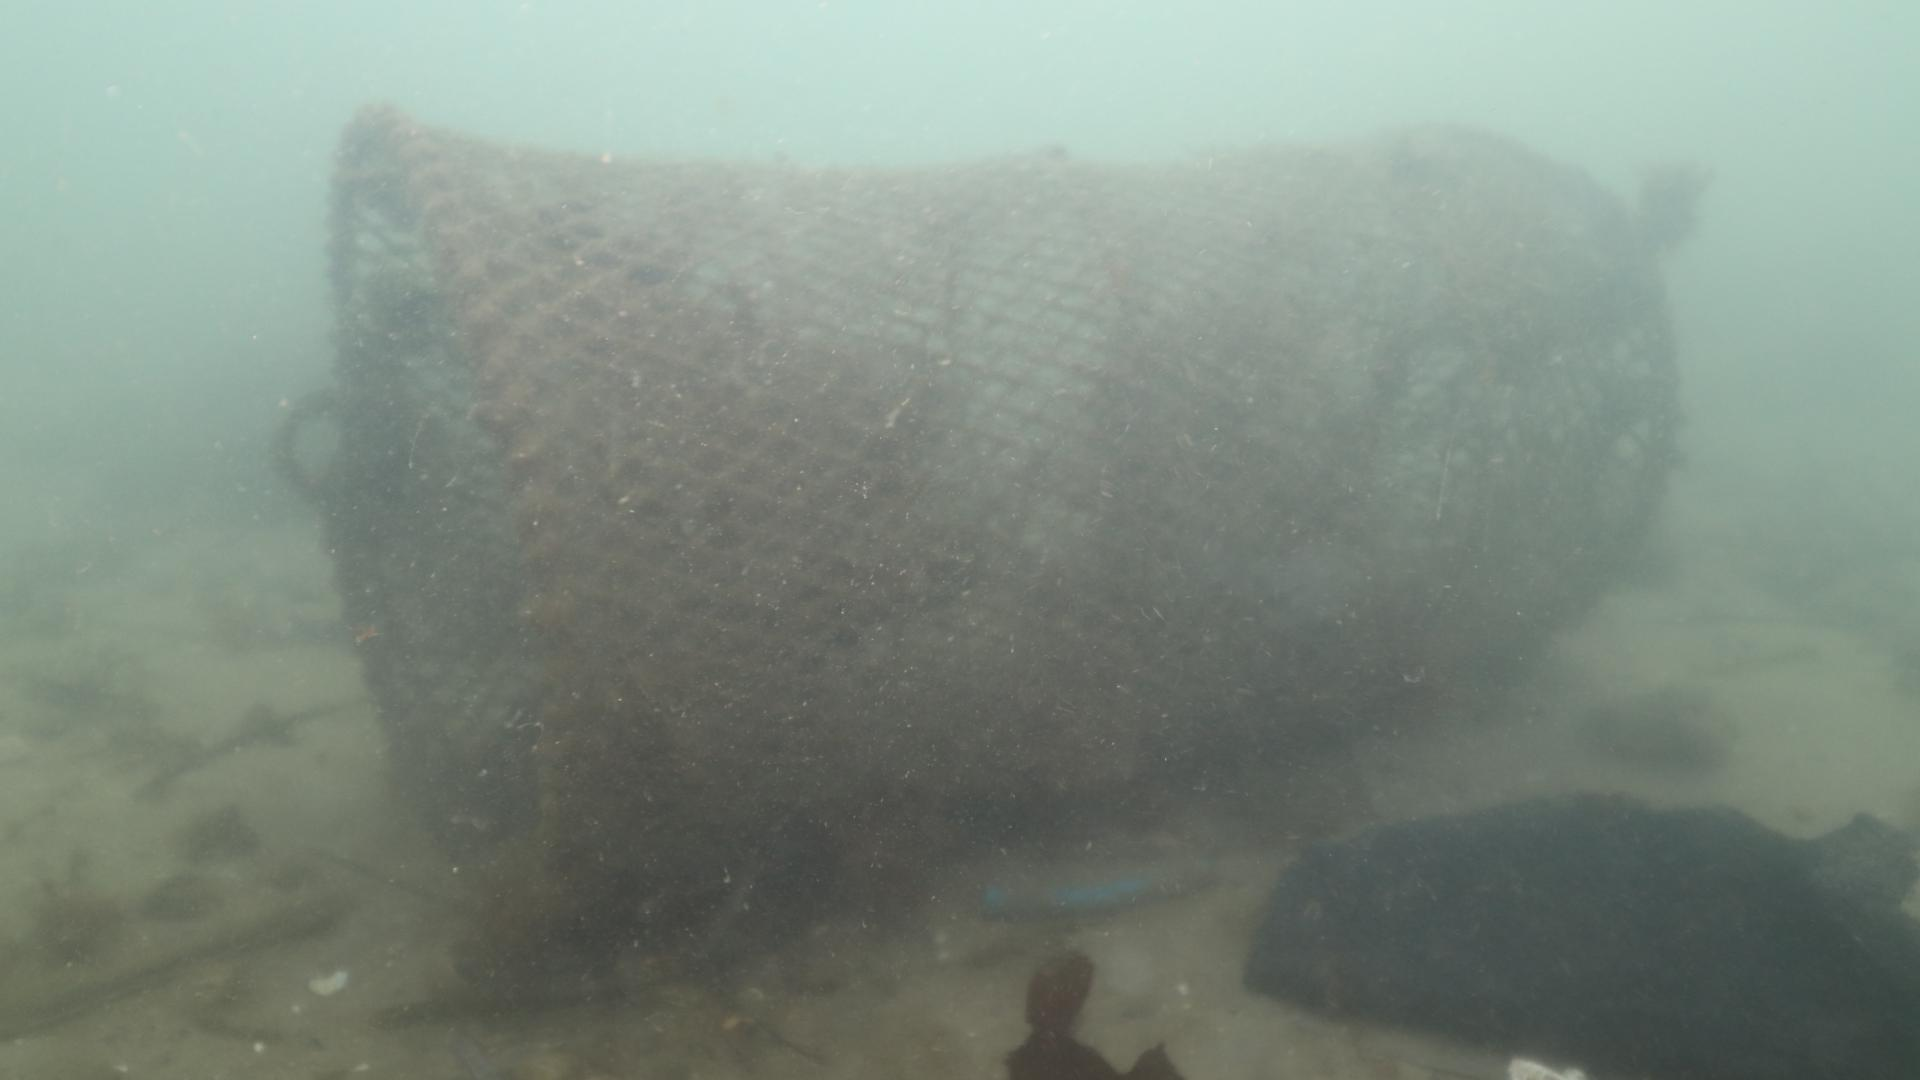spring fish trap: (309, 96, 1677, 951)
